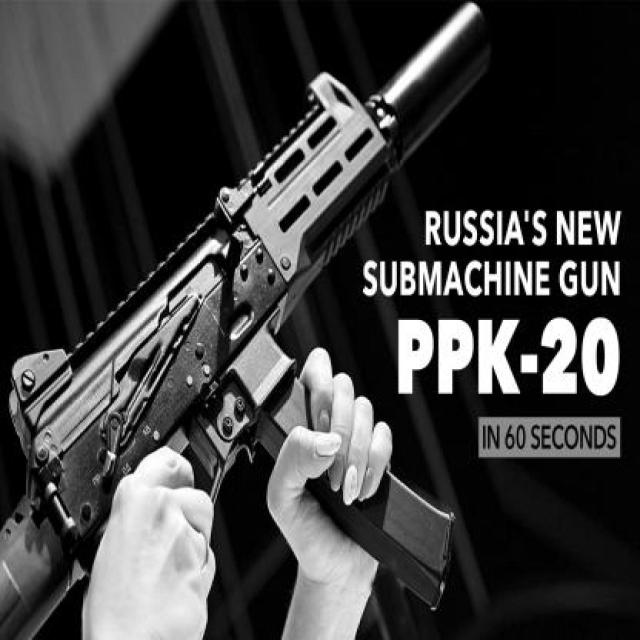weapon: (1, 0, 498, 638)
